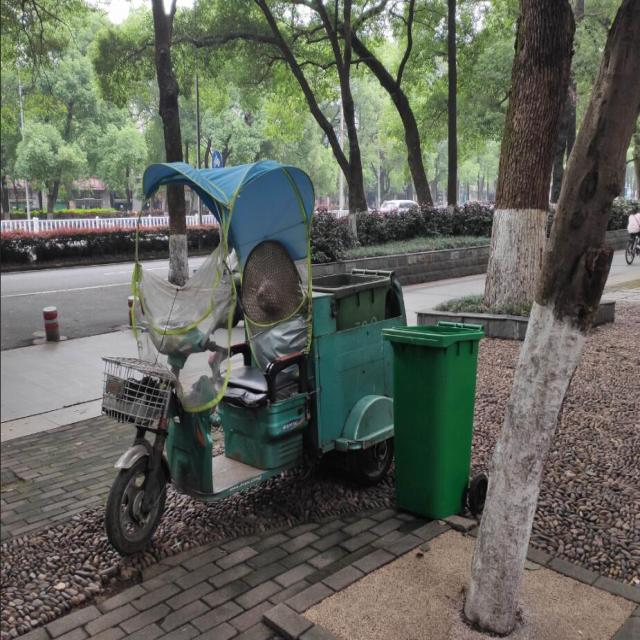ash bin: (378, 316, 488, 520)
tricycle: (93, 149, 405, 553)
warning_column: (40, 303, 61, 340)
